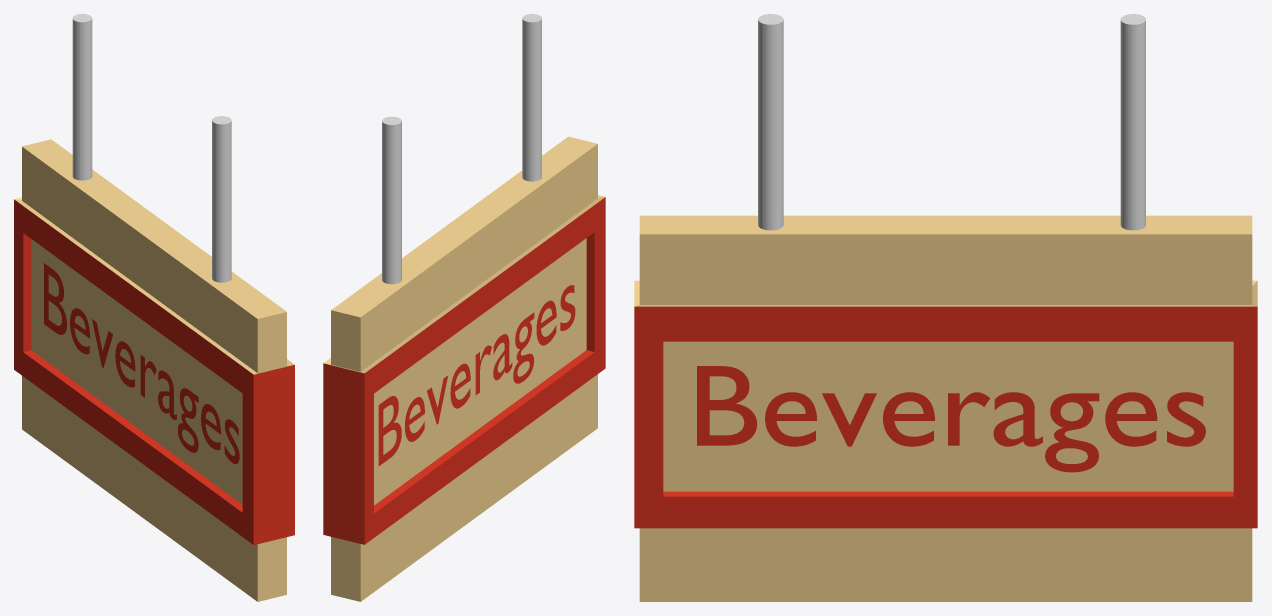
Rendered from beveragesSign.fbx.
The picture shows the model from 3 angles, left to right: view 1: azimuth 30°, elevation 25°; view 2: azimuth 150°, elevation 25°; view 3: azimuth 270°, elevation 25°; orthographic projection. The views are drawn at different scales.
Parts seen in each view (by area): view 1: baseSign, Text.001, Cylinder.001, Cylinder.000; view 2: baseSign, Text.001, Cylinder.001, Cylinder.000; view 3: baseSign, Text, Cylinder.001, Cylinder.000.
Part boxes in pixels (x1,y1,x2,y2): baseSign: (14,139,294,601); Text.001: (44,263,239,463); Cylinder.001: (72,14,92,180); Cylinder.000: (212,116,231,282); baseSign: (323,136,605,601); Text.001: (378,285,575,466); Cylinder.001: (382,116,401,284); Cylinder.000: (522,14,541,181); baseSign: (634,215,1257,601); Text: (697,366,1205,472); Cylinder.001: (1120,14,1145,230); Cylinder.000: (758,14,783,230).
Size of the model in its own units: 42.35 by 434 by 427.
